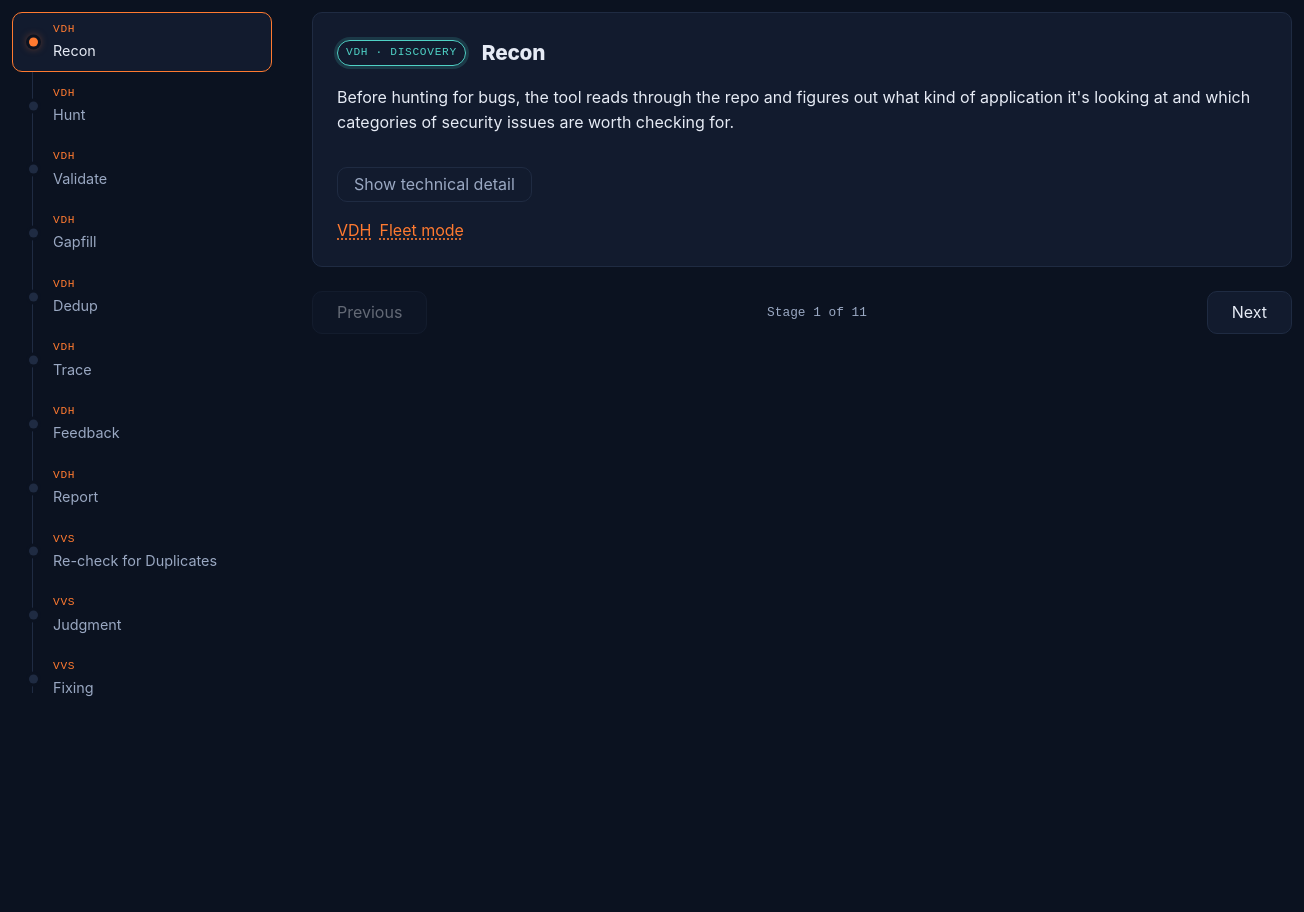
Test case: Walkthrough › jumps to a stage when its rail item is clicked
Click the button "VDH Dedup".
click(75, 306)  # box [12,267,272,326]
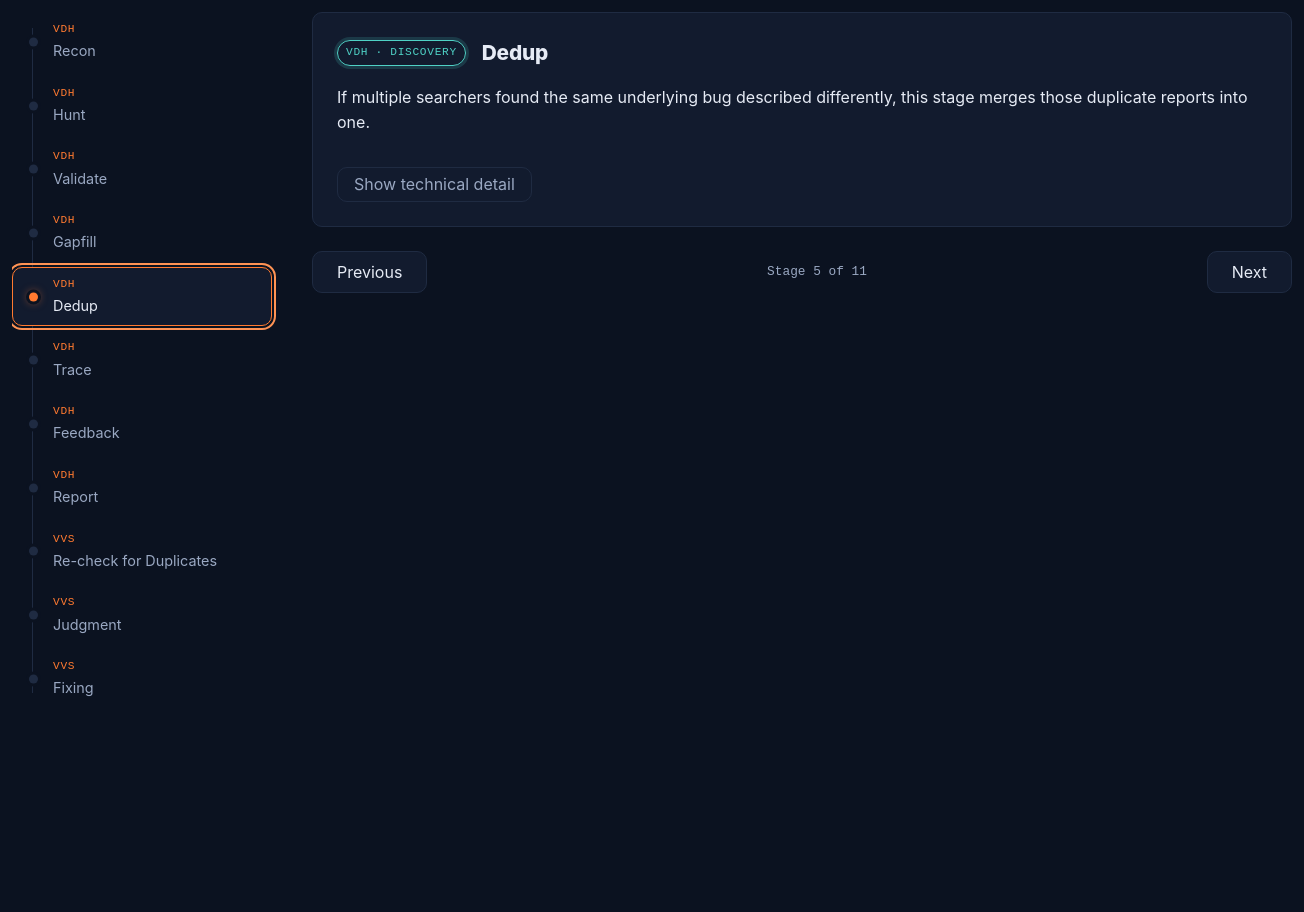
Check: the heading "Dedup" is shown, box [482,37,548,69]
